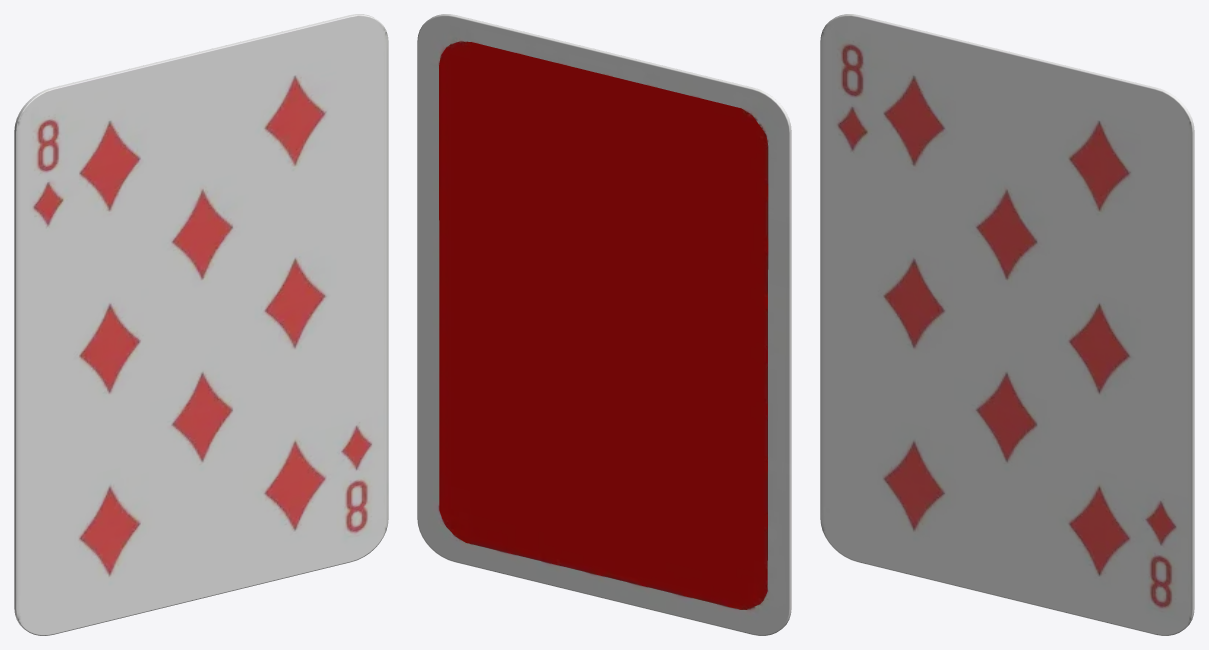
The model's file is diamonds_8-transformed.glb.
3 views of the same model, side by side, from view 1: azimuth 30°, elevation 25°; view 2: azimuth 150°, elevation 25°; view 3: azimuth 330°, elevation 25° (orthographic).
Visible parts, largest first — view 1: defaultMaterial.028; view 2: defaultMaterial.028; view 3: defaultMaterial.028.
Part boxes in pixels (x1=…): defaultMaterial.028: x1=14, y1=14, x2=388, y2=635; defaultMaterial.028: x1=417, y1=14, x2=791, y2=635; defaultMaterial.028: x1=820, y1=14, x2=1194, y2=635.
Size of the model in its own units: 0.1408 by 0.1972 by 0.00111.
Materials: 1 (1 with a texture image).
